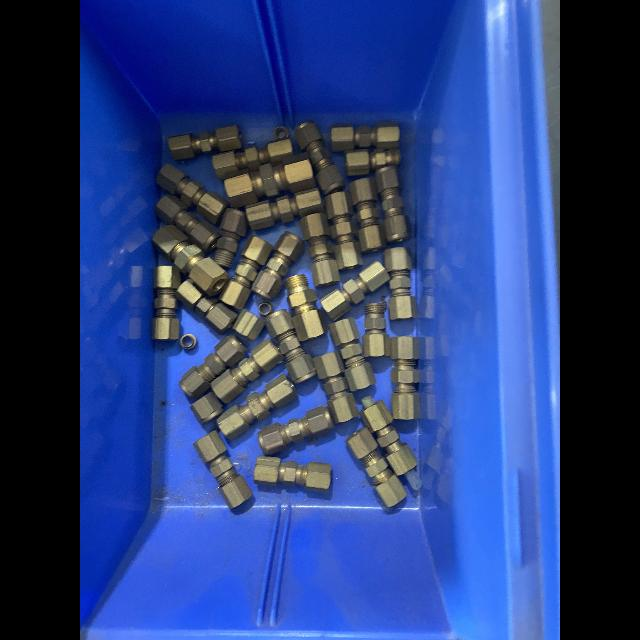Brass: (152, 224, 230, 296), (217, 373, 298, 440), (224, 152, 316, 209), (346, 427, 408, 507), (211, 338, 285, 403), (193, 430, 252, 510), (360, 396, 418, 476), (156, 164, 231, 224), (179, 334, 247, 398), (320, 260, 390, 321), (218, 234, 274, 310), (264, 309, 318, 383), (295, 121, 347, 196), (155, 195, 221, 254), (258, 406, 335, 455), (328, 317, 377, 392), (252, 231, 305, 300), (313, 349, 360, 423), (176, 278, 238, 334), (213, 137, 293, 179), (245, 187, 323, 230), (324, 192, 364, 271), (300, 213, 341, 287), (349, 178, 388, 253), (253, 455, 332, 492), (285, 274, 327, 342), (376, 166, 412, 243), (168, 124, 242, 160), (390, 336, 421, 420), (384, 247, 418, 320), (152, 266, 181, 341), (331, 121, 399, 151), (213, 208, 247, 267), (363, 303, 391, 357), (345, 148, 400, 175), (232, 308, 266, 341), (190, 391, 223, 424)
